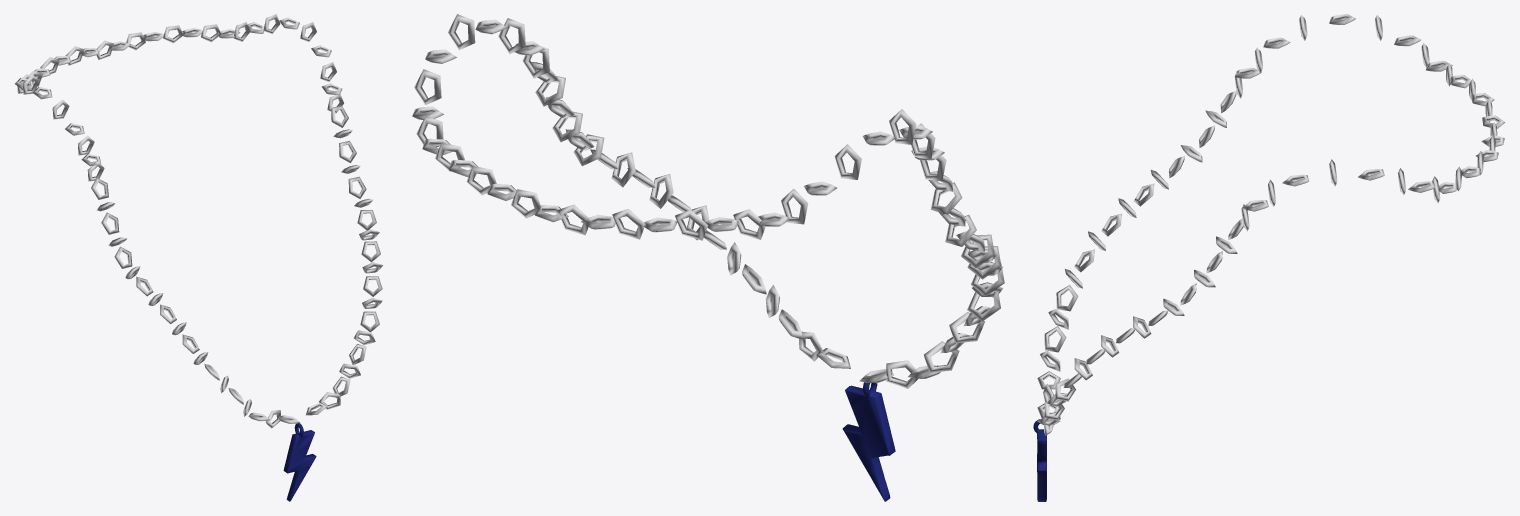
File: acc_chain_bolt.glb
The picture shows the model from 3 angles, left to right: view 1: azimuth 30°, elevation 25°; view 2: azimuth 150°, elevation 25°; view 3: azimuth 270°, elevation 25°; orthographic projection. The views are drawn at different scales.
Parts seen in each view (by area): view 1: acc_chain_bolt_0_metal, acc_chain_bolt_1_secondary; view 2: acc_chain_bolt_0_metal, acc_chain_bolt_1_secondary; view 3: acc_chain_bolt_0_metal, acc_chain_bolt_1_secondary.
Part boxes in pixels (x1,y1,x2,y2): acc_chain_bolt_0_metal: [15, 14, 383, 428]; acc_chain_bolt_1_secondary: [283, 423, 316, 501]; acc_chain_bolt_0_metal: [412, 14, 1004, 388]; acc_chain_bolt_1_secondary: [842, 382, 895, 501]; acc_chain_bolt_0_metal: [1037, 14, 1505, 435]; acc_chain_bolt_1_secondary: [1033, 419, 1046, 501].
Size of the model in its own units: 0.1856 by 0.2257 by 0.228.
